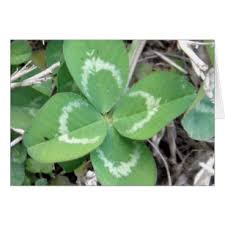4-clover: (22, 41, 193, 185)
